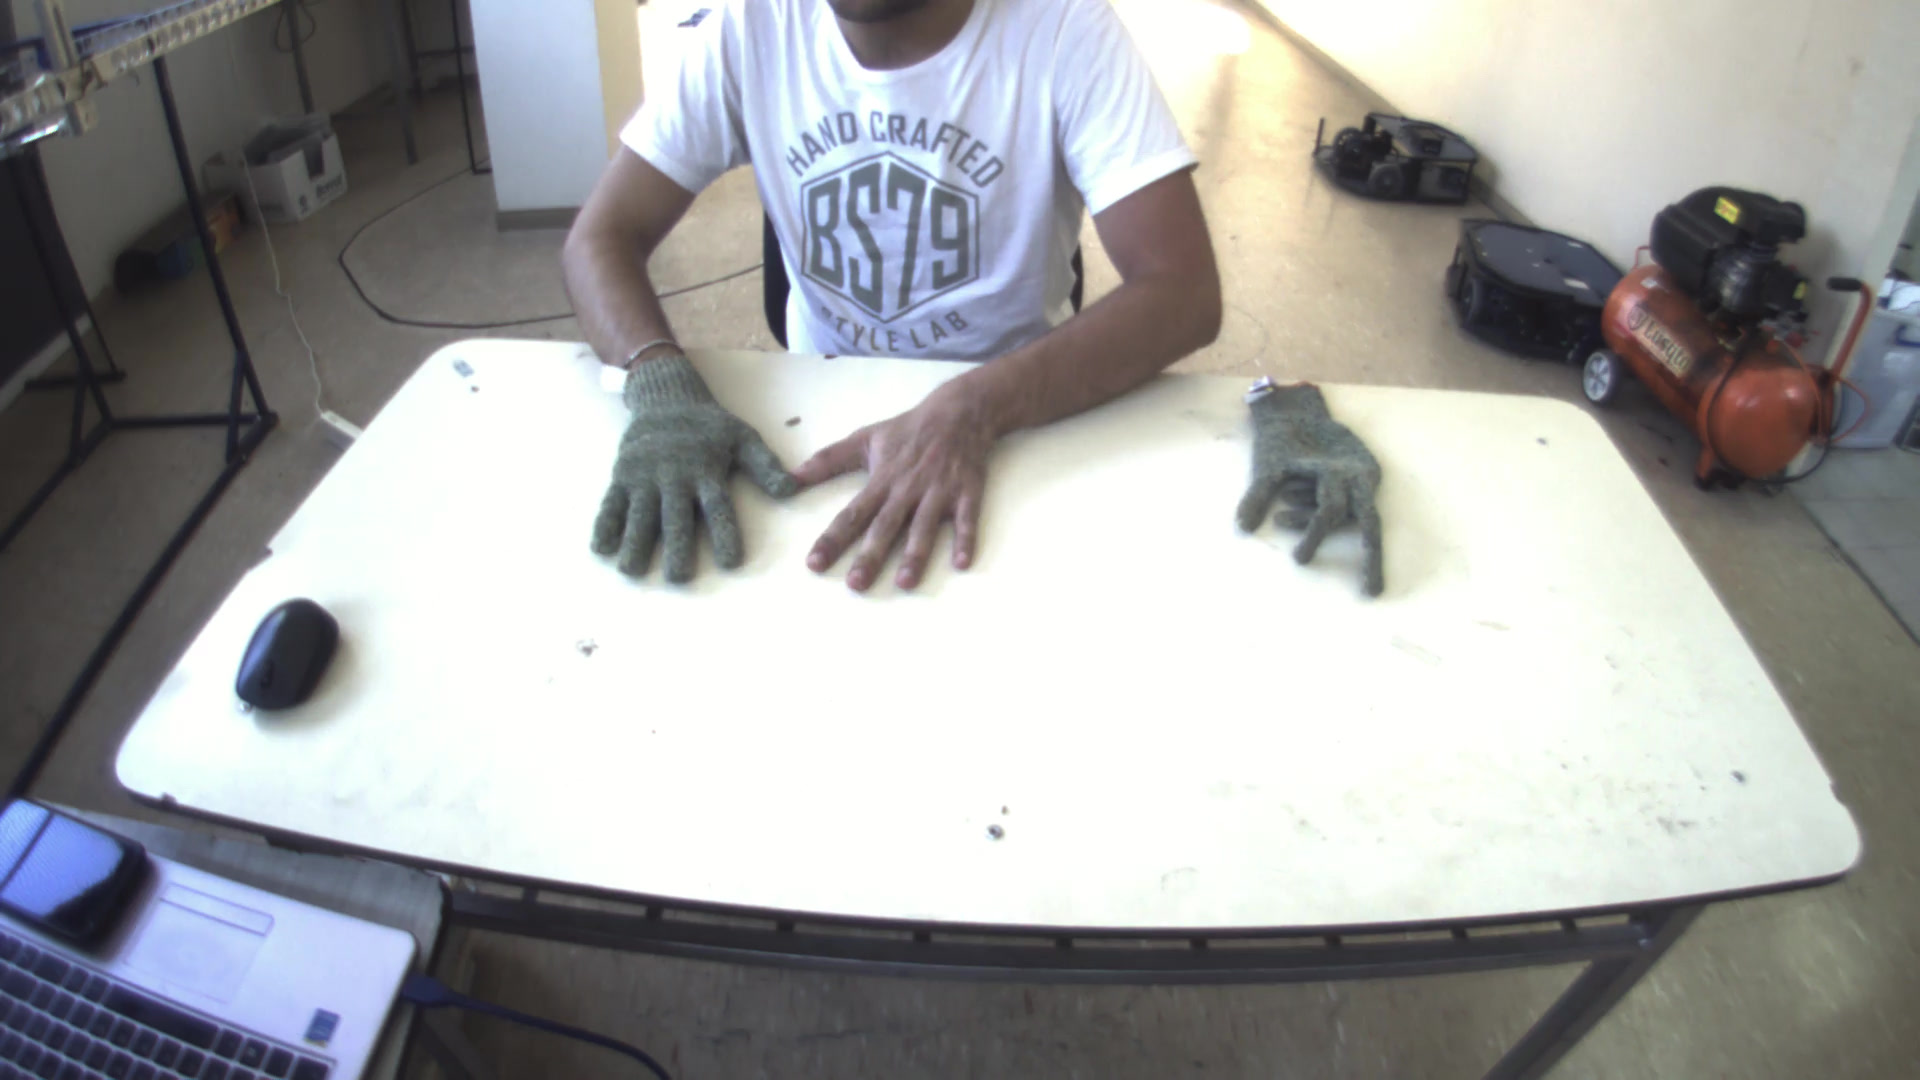hand: (578, 331, 799, 597), (793, 378, 1011, 607)
